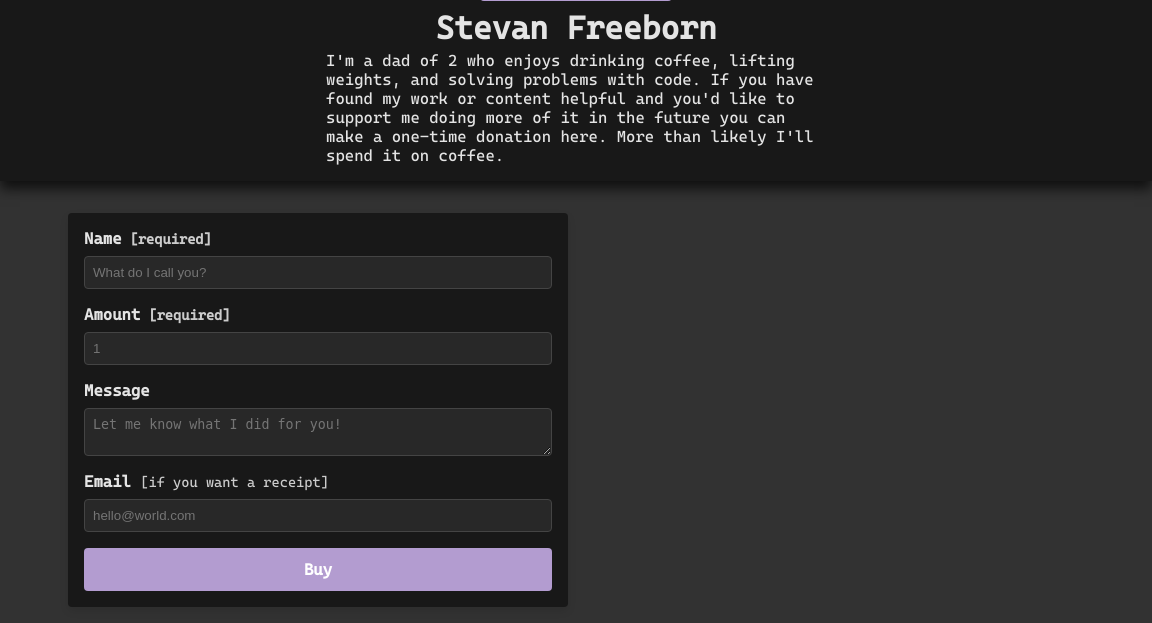
it: form › it should clear amount error when input changes
(page scrolled)
Click the button "Buy" at (318, 570), box 84,548 -> 552,591
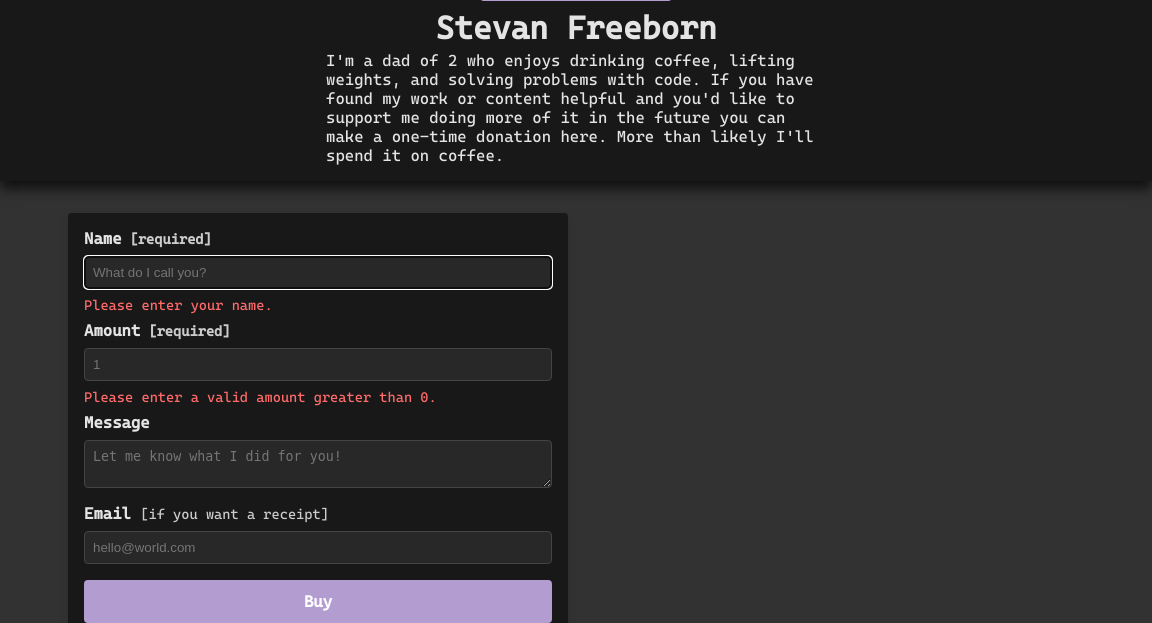
Now the text "Please enter a valid amount greater than 0." is shown, box 84,389 -> 437,405
Type "10" into the number field labelled "Amount" at (318, 364), box 84,348 -> 552,381
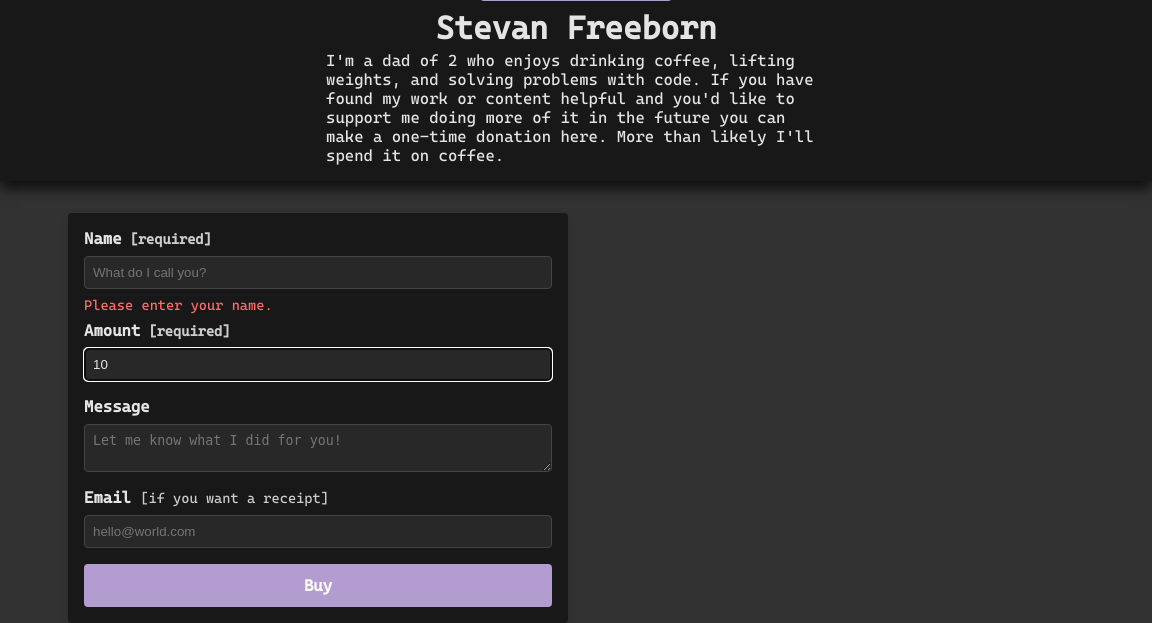
Now the text "Please enter a valid amount greater than 0." is gone
